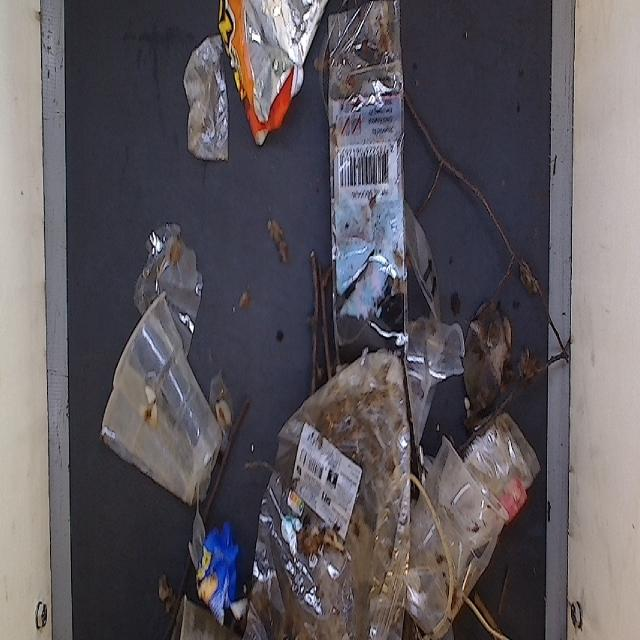food_wrapping: (208, 0, 334, 141), (182, 526, 250, 619)
plastic_cups: (109, 286, 222, 539), (383, 440, 506, 640), (401, 277, 468, 455), (164, 598, 240, 640)
plastic_films: (248, 331, 429, 640), (316, 2, 426, 385), (121, 214, 216, 370), (173, 52, 241, 178)
